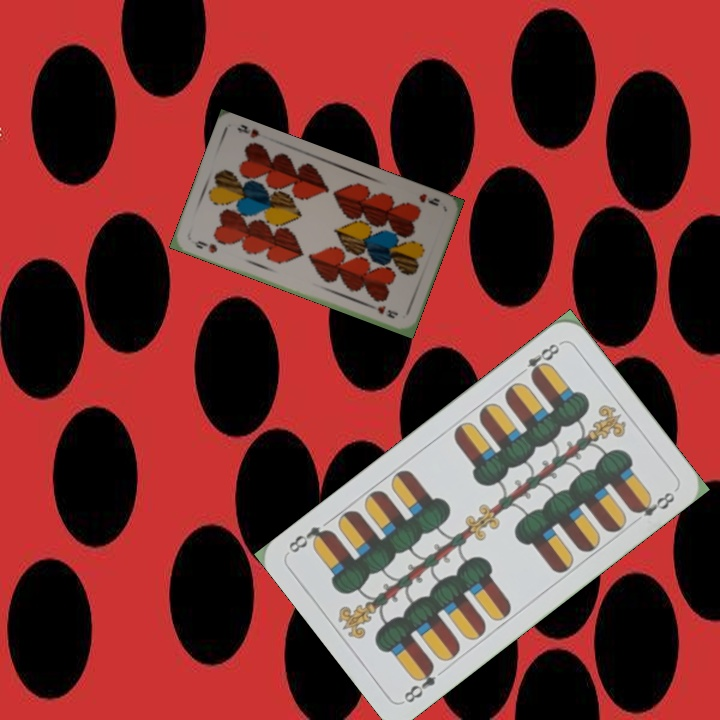E8: (513, 338, 564, 381), (399, 660, 439, 706)
H9: (190, 236, 220, 256), (415, 189, 442, 209)
